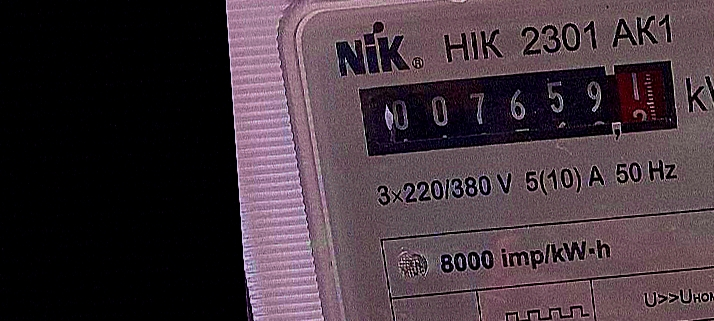0: (426, 92, 452, 130), (387, 95, 411, 135)
1: (625, 67, 643, 104)
5: (544, 78, 566, 116)
6: (504, 85, 528, 123)
7: (464, 88, 488, 128)
9: (582, 77, 605, 116)
screen: (348, 54, 687, 166)
